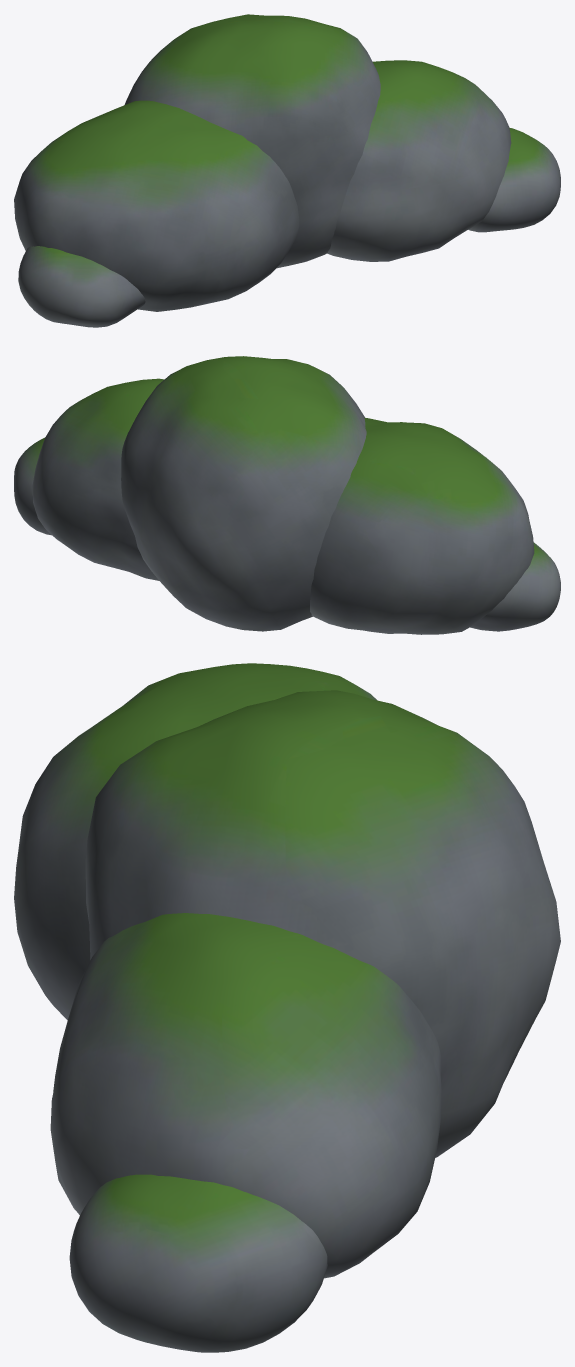
File: d_rock.glb
The picture shows the model from 3 angles, top to bottom: view 1: azimuth 30°, elevation 25°; view 2: azimuth 150°, elevation 25°; view 3: azimuth 270°, elevation 25°; orthographic projection. The views are drawn at different scales.
Parts seen in each view (by area): view 1: rock; view 2: rock; view 3: rock.
Part boxes in pixels (x1,y1,x2,y2): rock: [14, 14, 560, 327]; rock: [14, 356, 560, 634]; rock: [14, 663, 560, 1352].
Bounding box in the file's own units: 1.37 × 0.5846 × 0.6499.
1 material, 1 textured.
